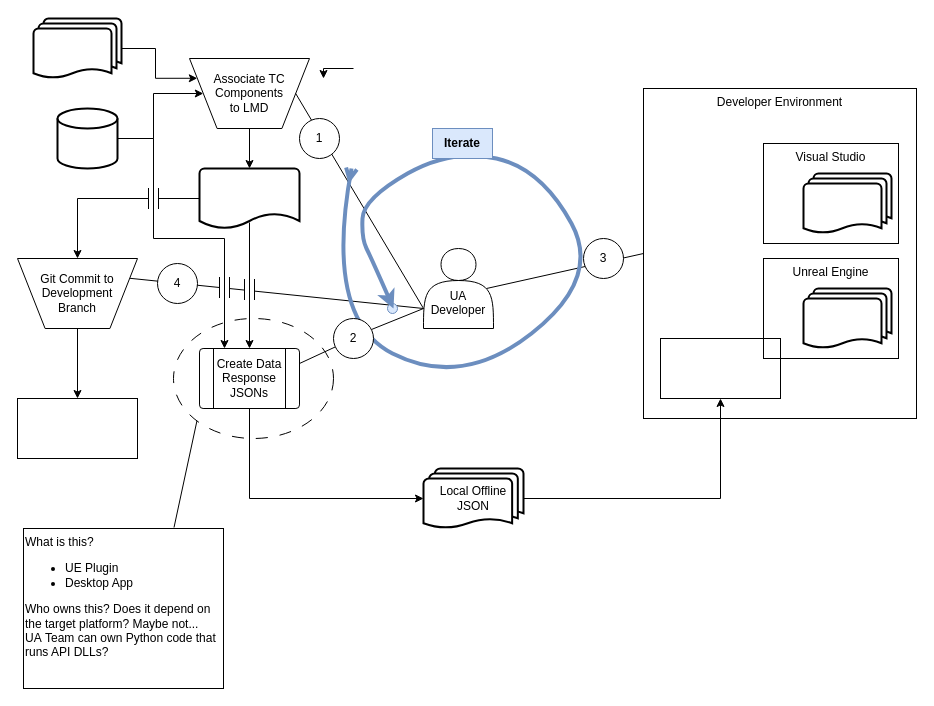
Some shapes in this 934 by 706 pixel diagram are drawn without their labels. Each missing label, with the centre of its shape:
C++ Source Code: the point at 847,203
Core: the point at 87,138
GitLab: the point at 77,428
IETM: the point at 77,48
SQL (Done in VS Code): the point at 249,198
Trainer in Edit Mode: the point at 720,368
UE 5 Blueprints: the point at 847,318
